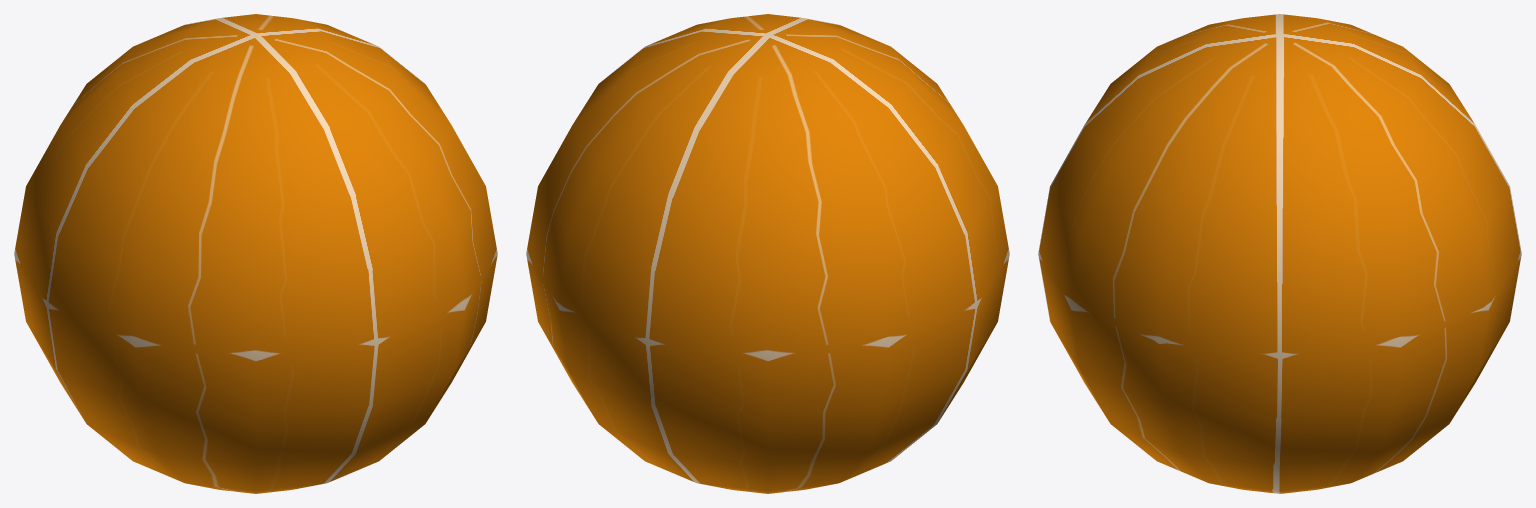
3 renders of one model, left to right at view 1: azimuth 30°, elevation 25°; view 2: azimuth 150°, elevation 25°; view 3: azimuth 270°, elevation 25°, orthographic.
Visible parts, largest first — view 1: Sphere_LQ_Sphere; view 2: Sphere_LQ_Sphere; view 3: Sphere_LQ_Sphere.
Boxes of the visible parts, x1=… form: Sphere_LQ_Sphere: x1=14, y1=14, x2=497, y2=493; Sphere_LQ_Sphere: x1=526, y1=14, x2=1009, y2=493; Sphere_LQ_Sphere: x1=1038, y1=14, x2=1521, y2=493.
Bounding box in the file's own units: 1 × 1 × 1.
Materials: 1 (1 with a texture image).
